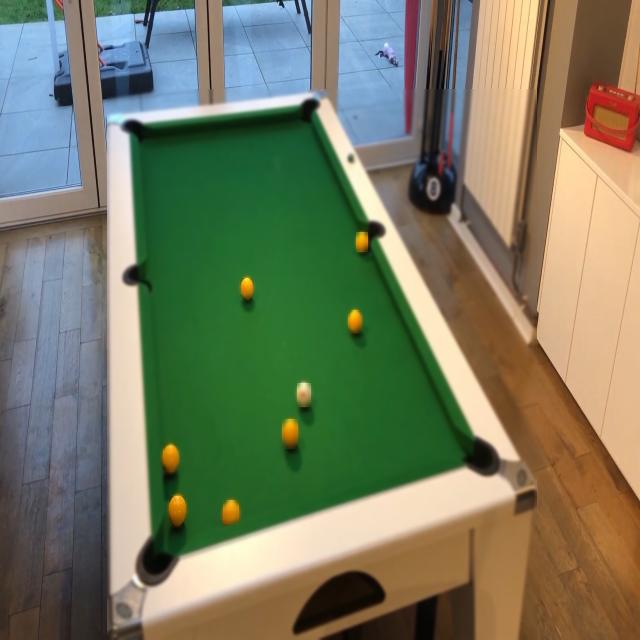Ball: (169, 496, 186, 526), (282, 419, 298, 449), (163, 443, 179, 472), (223, 500, 239, 524), (297, 383, 311, 407), (348, 310, 362, 333), (240, 278, 254, 300), (356, 232, 368, 252)
Billiard table: (107, 89, 537, 640)
